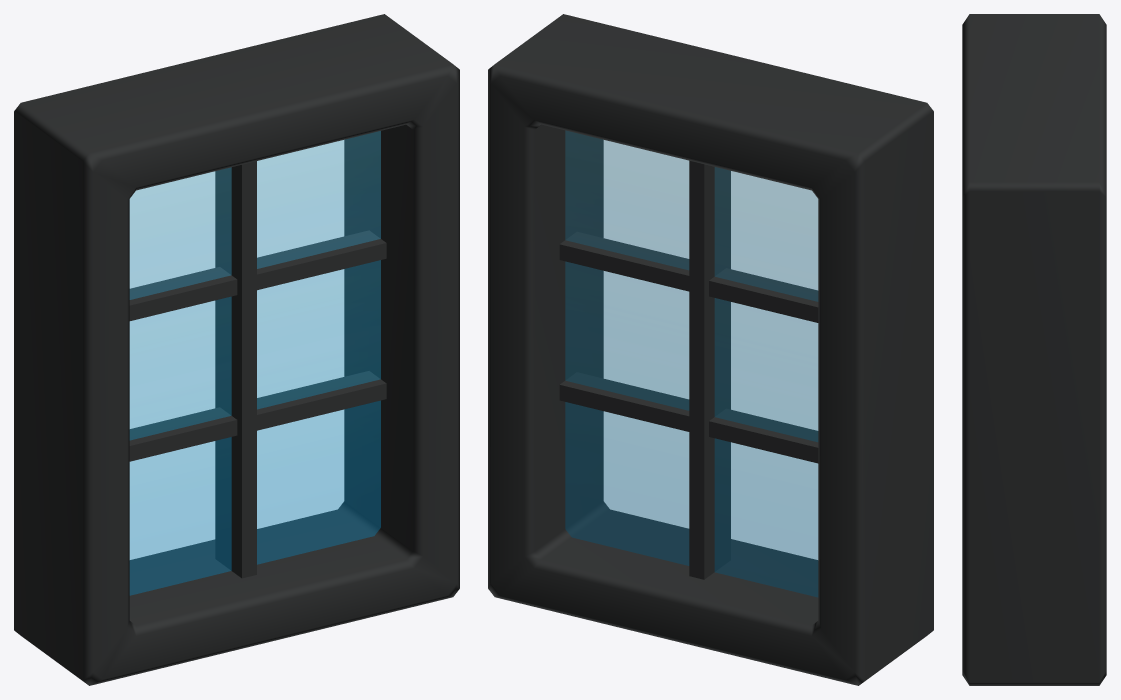
Rendered from Window_Black_13.glb.
3 renders of one model, left to right at view 1: azimuth 30°, elevation 25°; view 2: azimuth 150°, elevation 25°; view 3: azimuth 270°, elevation 25°, orthographic. The views are drawn at different scales.
Visible parts, largest first — view 1: Window_Black_13; view 2: Window_Black_13; view 3: Window_Black_13.
Boxes of the visible parts, bbox=[...] form: Window_Black_13: bbox=[14, 14, 459, 685]; Window_Black_13: bbox=[488, 14, 933, 685]; Window_Black_13: bbox=[962, 14, 1106, 685].
Bounding box in the file's own units: 1.14 × 1.54 × 0.4.
2 materials, 2 textured.
